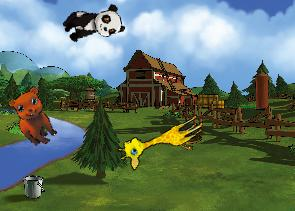bear: (1, 81, 69, 151)
giraffe: (114, 103, 207, 173)
panda: (60, 2, 125, 46)
